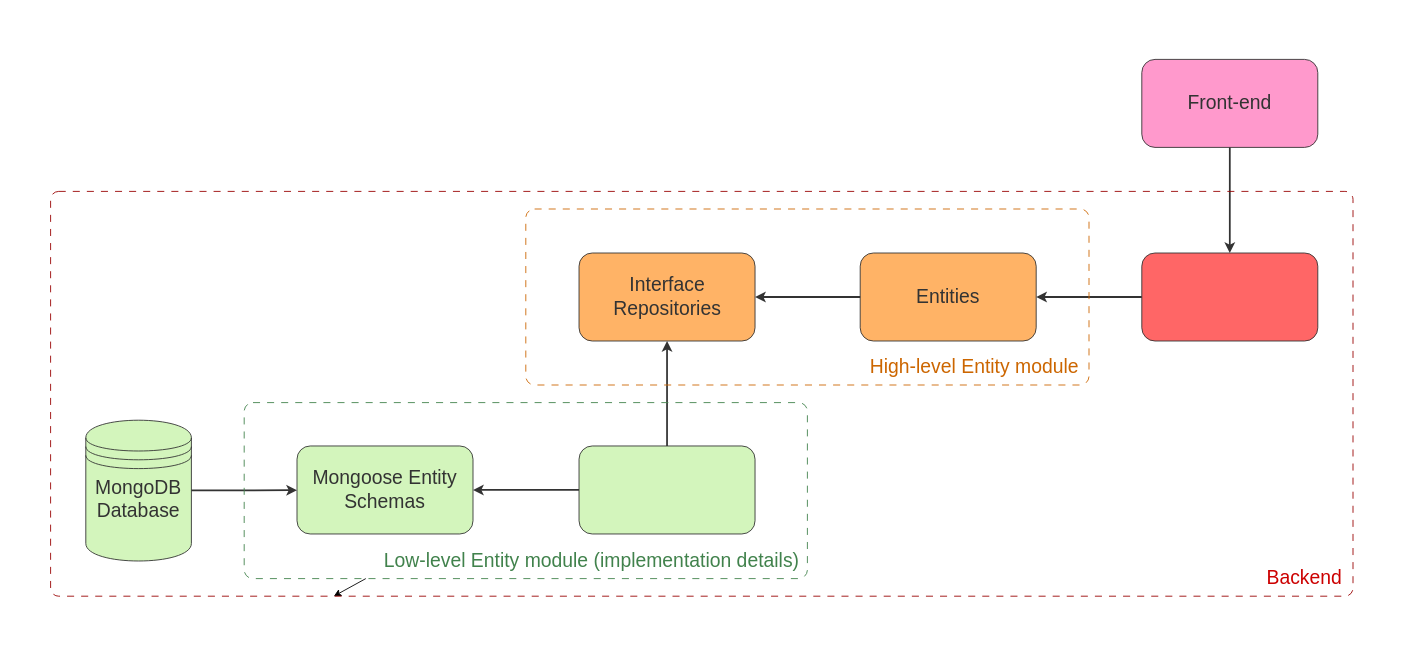
The diagram is 1403 pixels wide and 664 high, and some of its shapes have lost their labels. The box of each missing label's shape, as (x1, y1, x2, y2) in pixels:
MongoDB Repositories: (578, 445, 755, 534)
Routes: (1141, 252, 1318, 341)
